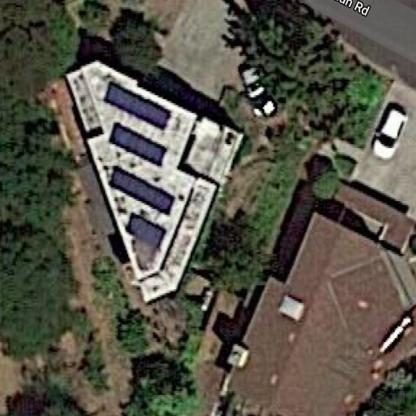car: (234, 60, 284, 125), (368, 94, 407, 170)
solar_panel: (90, 75, 179, 135), (97, 160, 179, 218), (95, 118, 176, 169), (118, 210, 171, 251)
